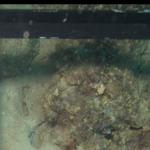dead: (6, 47, 146, 147)
